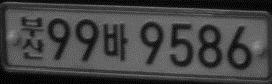5: (169, 21, 194, 67)
6: (226, 24, 252, 69)
8: (197, 23, 223, 68)
9: (138, 19, 164, 64), (74, 18, 100, 61), (46, 17, 71, 60)
바: (102, 21, 128, 61)
부산_V: (20, 15, 45, 60)
